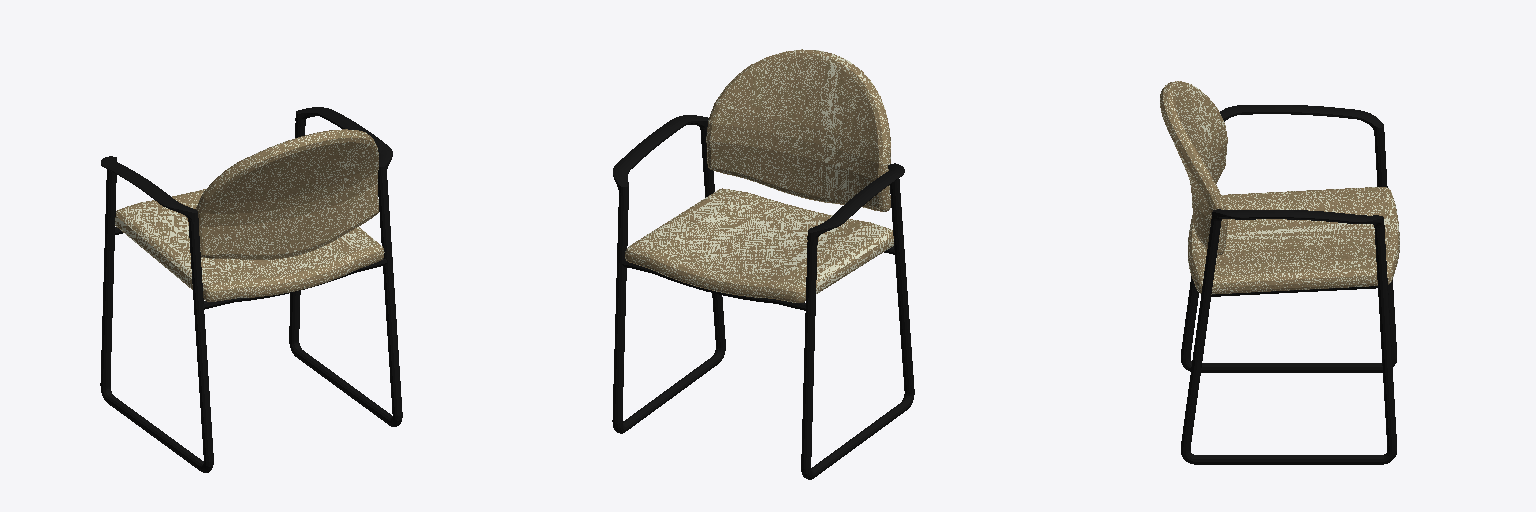
3 renders of one model, left to right at view 1: azimuth 30°, elevation 25°; view 2: azimuth 150°, elevation 25°; view 3: azimuth 270°, elevation 25°, orthographic.
Parts seen in each view (by area): view 1: mesh1_mesh1-geometry, mesh5_mesh5-geometry, mesh2_mesh2-geometry, mesh4_mesh4-geometry, mesh3_mesh3-geometry; view 2: mesh1_mesh1-geometry, mesh2_mesh2-geometry, mesh5_mesh5-geometry, mesh3_mesh3-geometry, mesh4_mesh4-geometry; view 3: mesh2_mesh2-geometry, mesh5_mesh5-geometry, mesh1_mesh1-geometry, mesh3_mesh3-geometry, mesh4_mesh4-geometry.
Boxes of the visible parts, <box> form: mesh1_mesh1-geometry: <box>196,129,378,259</box>; mesh5_mesh5-geometry: <box>100,122,402,472</box>; mesh2_mesh2-geometry: <box>115,189,384,301</box>; mesh4_mesh4-geometry: <box>101,156,198,221</box>; mesh3_mesh3-geometry: <box>295,107,392,175</box>; mesh1_mesh1-geometry: <box>706,49,890,211</box>; mesh2_mesh2-geometry: <box>625,188,893,302</box>; mesh5_mesh5-geometry: <box>612,129,914,479</box>; mesh3_mesh3-geometry: <box>613,115,708,195</box>; mesh4_mesh4-geometry: <box>807,163,904,241</box>; mesh2_mesh2-geometry: <box>1188,187,1399,294</box>; mesh5_mesh5-geometry: <box>1181,135,1396,464</box>; mesh1_mesh1-geometry: <box>1160,81,1227,255</box>; mesh3_mesh3-geometry: <box>1211,209,1384,228</box>; mesh4_mesh4-geometry: <box>1220,105,1384,136</box>.
Bounding box in the file's own units: 0.5247 × 0.7074 × 0.4736.
3 materials, 1 textured.